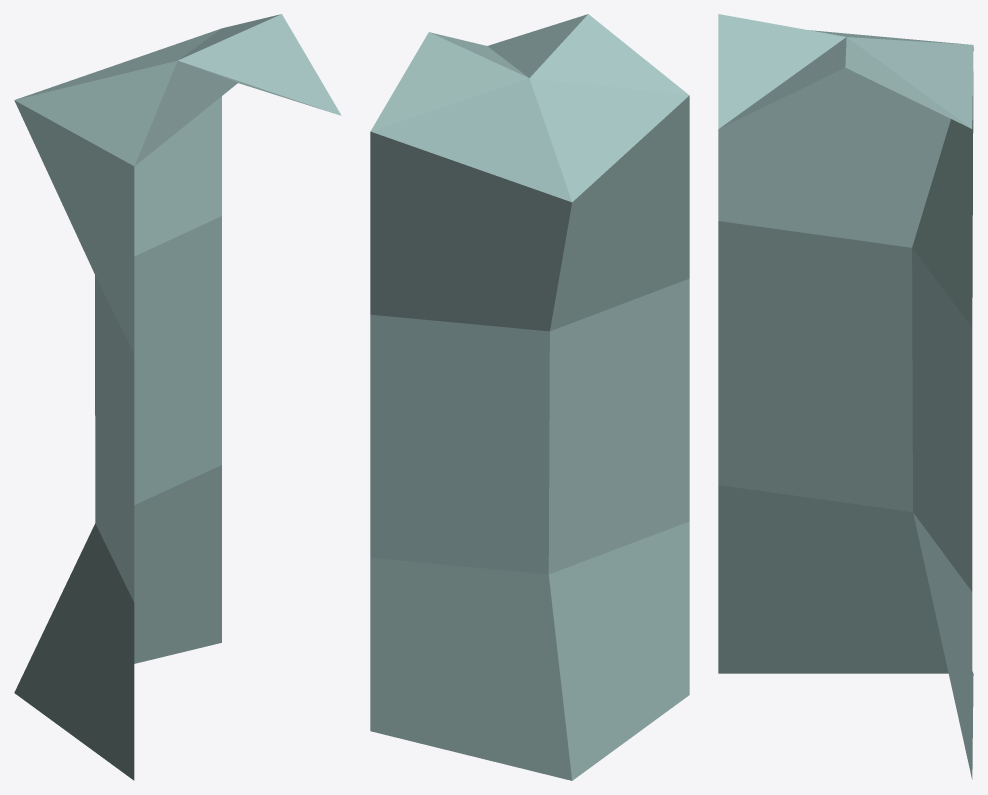
Rendered from BRailTrim90.fbx.
The picture shows the model from 3 angles, left to right: view 1: azimuth 30°, elevation 25°; view 2: azimuth 150°, elevation 25°; view 3: azimuth 270°, elevation 25°; orthographic projection. The views are drawn at different scales.
Visible parts, largest first — view 1: BRailTrim90; view 2: BRailTrim90; view 3: BRailTrim90.
Boxes of the visible parts, x1,y1,x2,y2 form: BRailTrim90: (14, 14, 341, 780); BRailTrim90: (370, 14, 689, 780); BRailTrim90: (718, 14, 973, 779).
Size of the model in its own units: 50 by 155 by 50.23.
